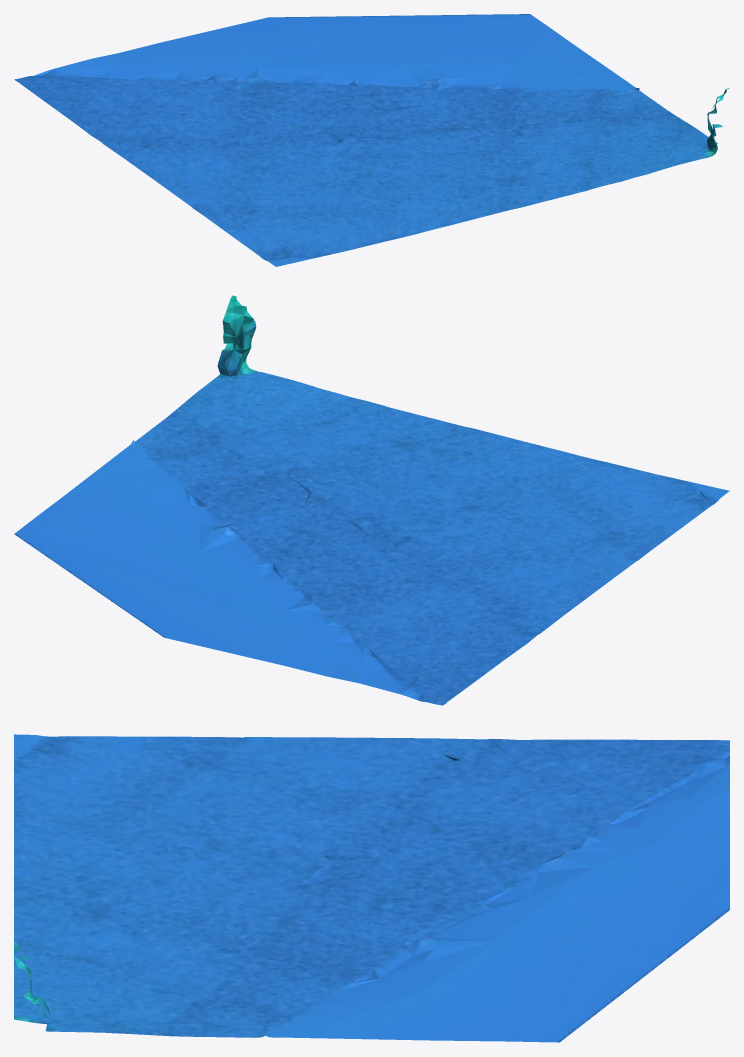
3 renders of one model, top to bottom at view 1: azimuth 30°, elevation 25°; view 2: azimuth 150°, elevation 25°; view 3: azimuth 270°, elevation 25°, orthographic. The views are drawn at different scales.
Bounding box in the file's own units: 13.06 × 2.02 × 13.06.
2 materials, 2 textured.
